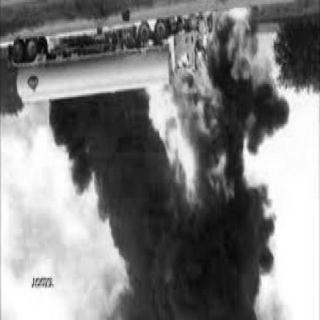Fire: (2, 8, 264, 212)
Smoke: (67, 177, 286, 320)
